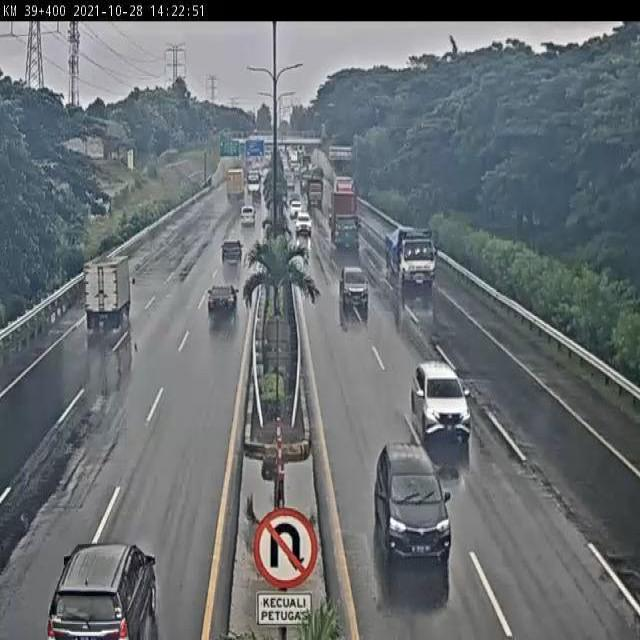car: (375, 443, 453, 564)
truck-l-: (383, 227, 438, 293)
truck-m-: (83, 253, 136, 331)
truck-xl-: (330, 190, 362, 250)
